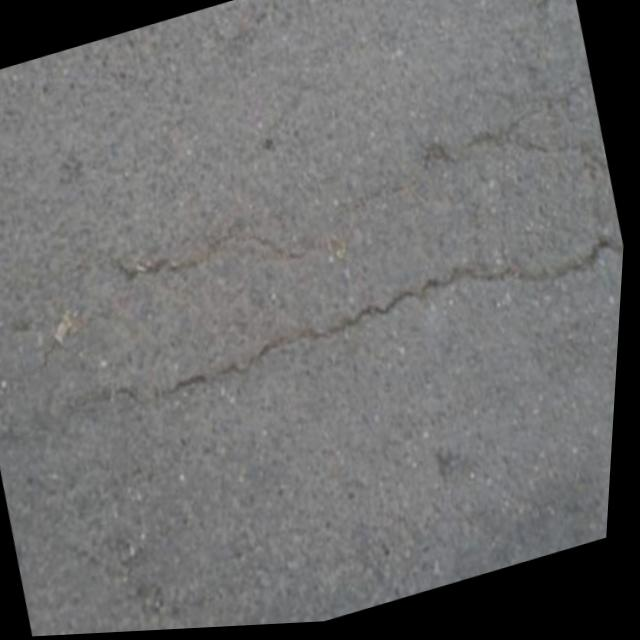Crack: (145, 208, 629, 415)
